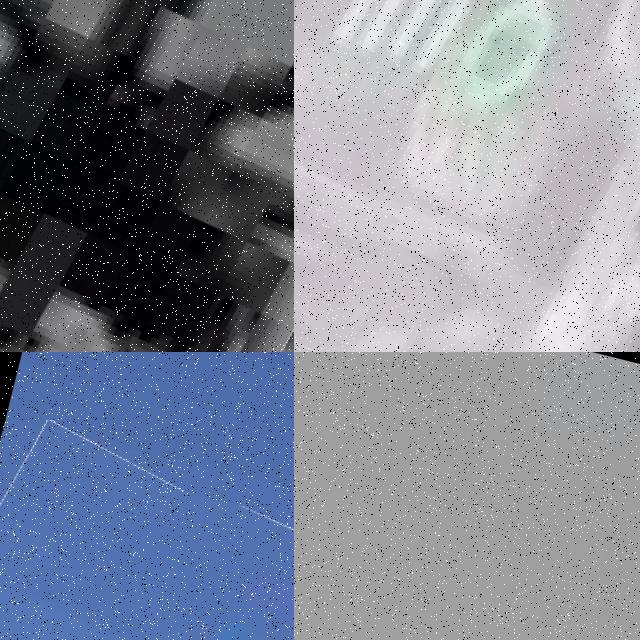0: (0, 0, 294, 352), (0, 445, 294, 640)
drone: (294, 0, 640, 352)
